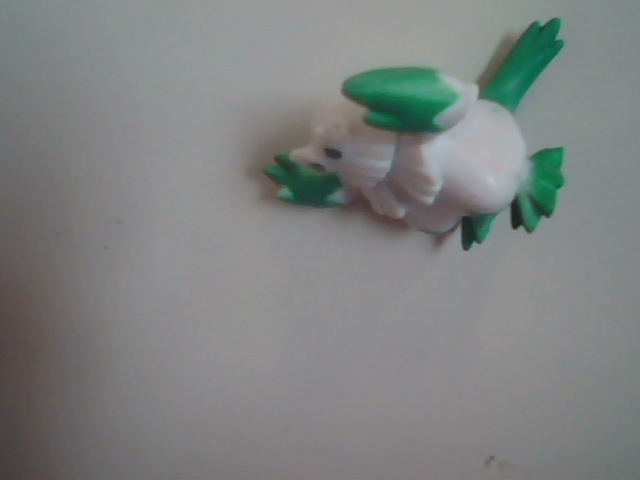abomasnow: (219, 20, 588, 358)
